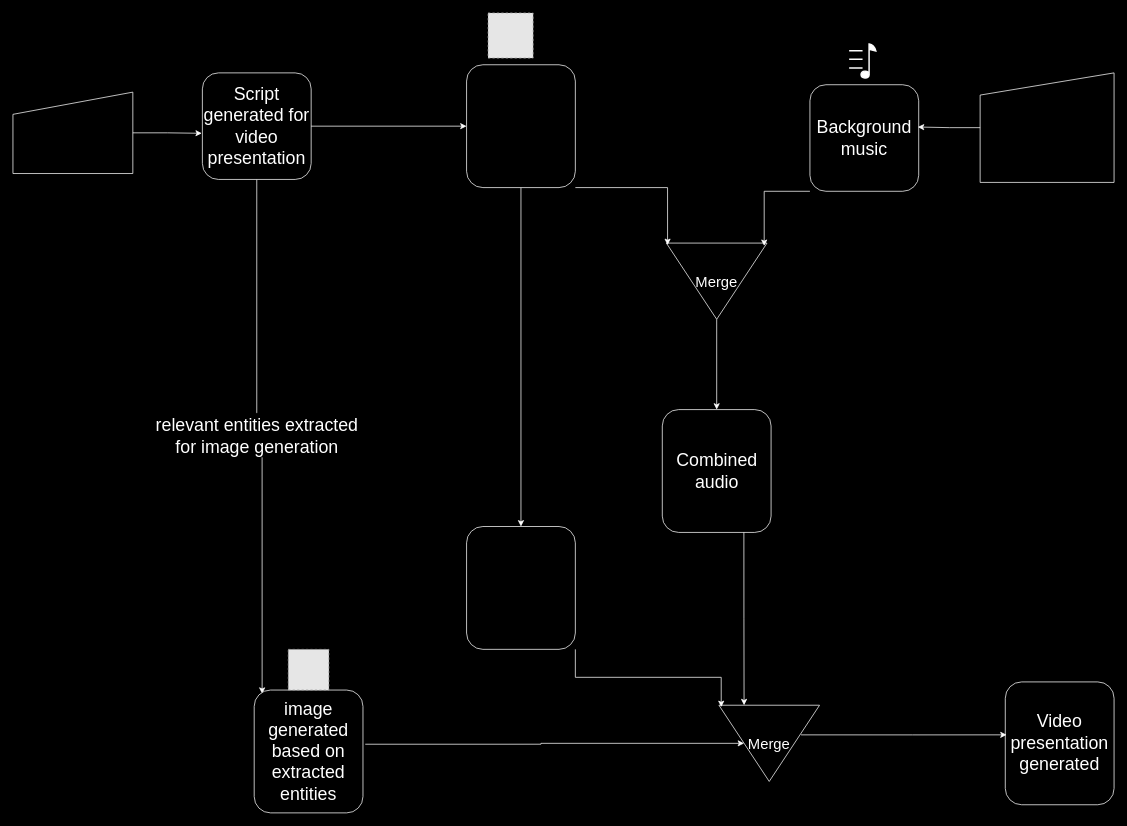
This 1127x826 diagram has some shape labels left out. Grey dashed boxes stand in for pictures. The shapes that lost their labels are listed below. From the top down, each one's box as (x1, y1, x2, y2) in pixels, then its label:
(12, 91, 133, 174): Input Text
(466, 64, 575, 188): Speech generated from generated script
(979, 72, 1114, 182): Prompt Text for background music
(466, 526, 575, 649): Transcription generated based on generated speech
